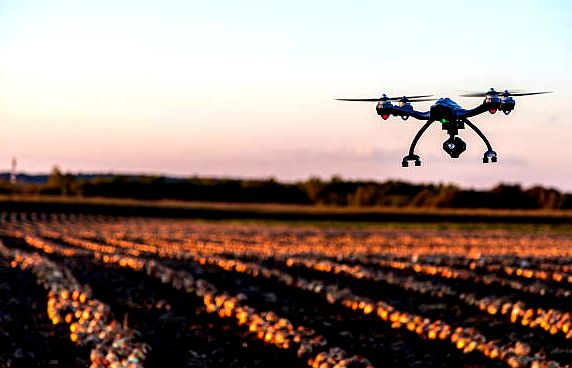Drone: (326, 86, 554, 171)
